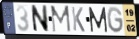3: (16, 4, 30, 32)
G: (106, 6, 125, 35)
K: (70, 6, 86, 33)
M: (50, 5, 72, 34), (88, 6, 109, 33)
N: (30, 4, 50, 33)
